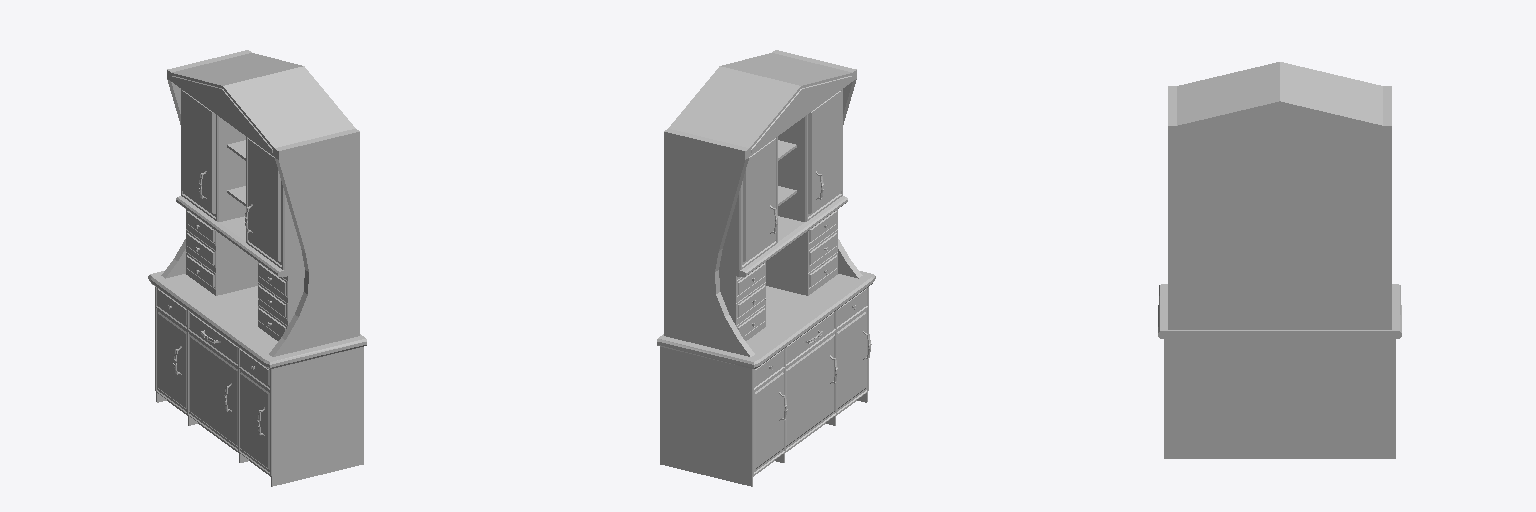
File: old-cabinet.obj
3 renders of one model, left to right at view 1: azimuth 30°, elevation 25°; view 2: azimuth 150°, elevation 25°; view 3: azimuth 270°, elevation 25°, orthographic.
Parts seen in each view (by area): view 1: Box0009; view 2: Box0009; view 3: Box0009.
Part boxes in pixels (left/top/right/bottom): Box0009: left=148, top=50, right=366, bottom=486; Box0009: left=657, top=50, right=875, bottom=486; Box0009: left=1158, top=62, right=1401, bottom=458.
Size of the model in its own units: 1.25 by 4.23 by 2.62.